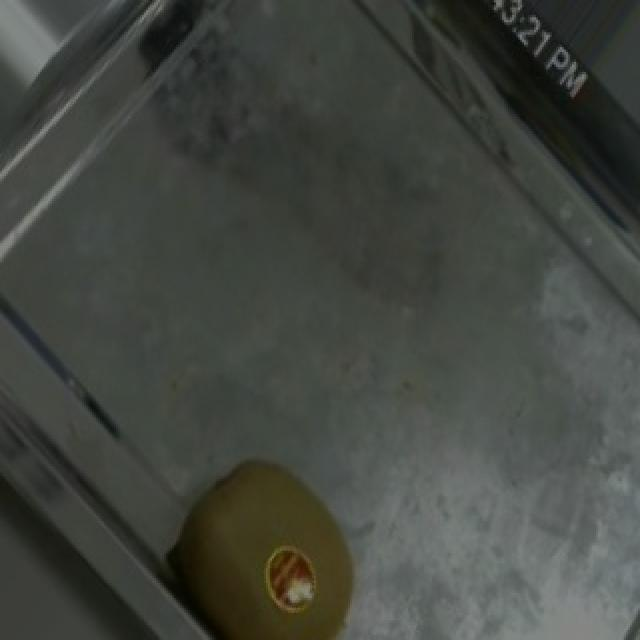Fruit: (138, 431, 398, 640)
